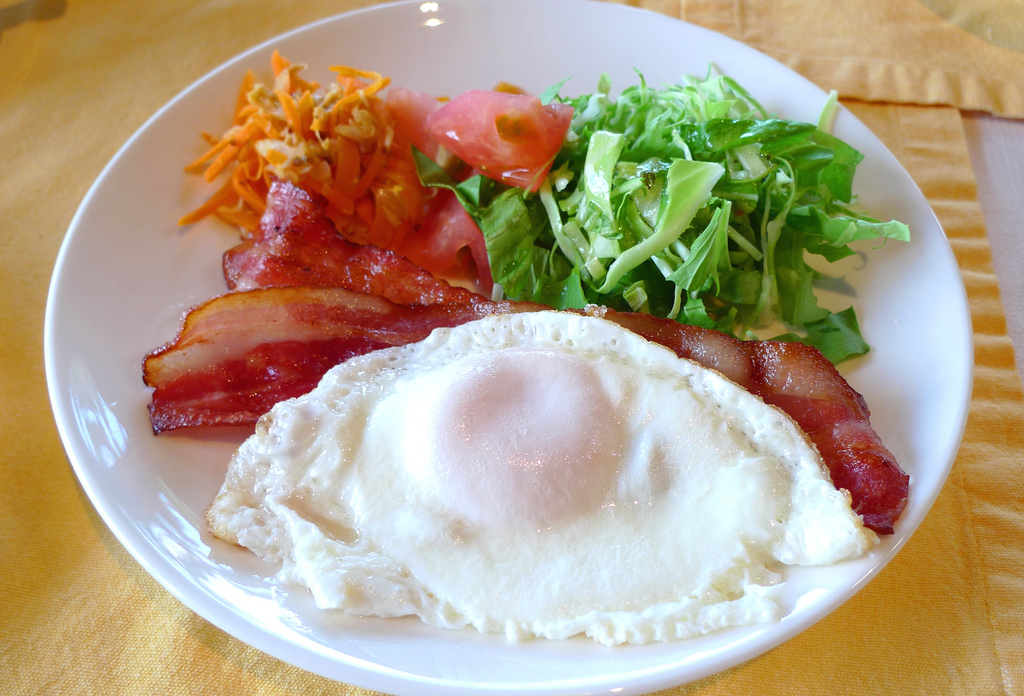chopped lettuce: (500, 94, 900, 344)
fried egg: (196, 330, 883, 644)
